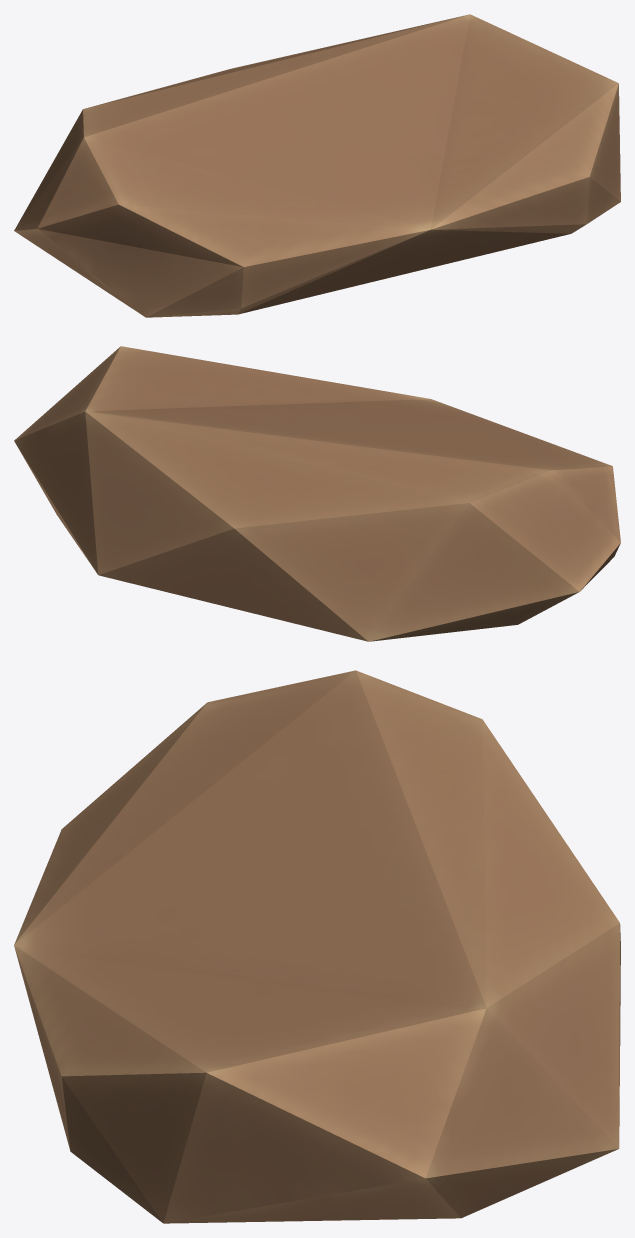
The model's file is Rock_15.fbx.
3 renders of one model, top to bottom at view 1: azimuth 30°, elevation 25°; view 2: azimuth 150°, elevation 25°; view 3: azimuth 270°, elevation 25°, orthographic. The views are drawn at different scales.
Visible parts, largest first — view 1: Rock_15; view 2: Rock_15; view 3: Rock_15.
Part boxes in pixels (x1,y1,x2,y2): Rock_15: (14,14,620,317); Rock_15: (14,346,620,641); Rock_15: (14,670,620,1223).
Size of the model in its own units: 45.14 by 26.94 by 9.93.
1 material, 1 textured.
